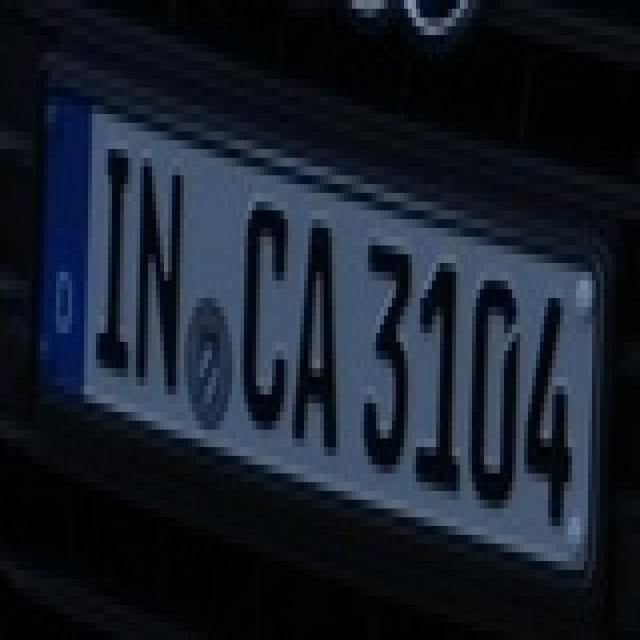LicensePlate: (37, 45, 596, 583)
